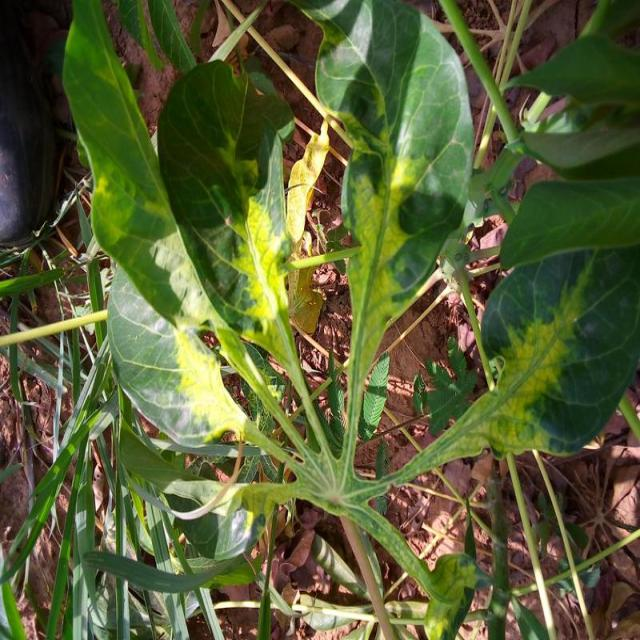cassava leaf: (298, 0, 476, 387), (155, 58, 295, 342), (105, 259, 252, 450)
